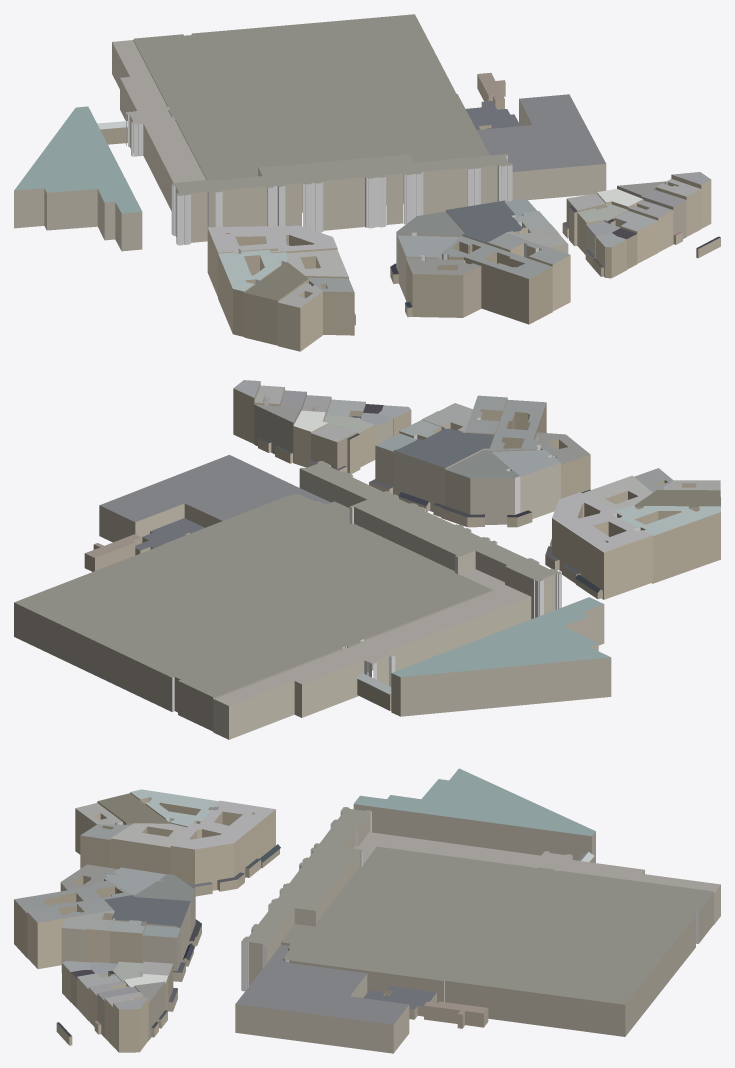
The picture shows the model from 3 angles, top to bottom: view 1: azimuth 30°, elevation 25°; view 2: azimuth 150°, elevation 25°; view 3: azimuth 270°, elevation 25°; orthographic projection. The views are drawn at different scales.
Parts seen in each view (by area): view 1: tuile; view 2: tuile; view 3: tuile.
Part boxes in pixels (bbox=[...]): tuile: bbox=[14, 14, 720, 351]; tuile: bbox=[14, 380, 720, 739]; tuile: bbox=[14, 768, 720, 1053].
Size of the model in its own units: 285 by 27.11 by 339.
